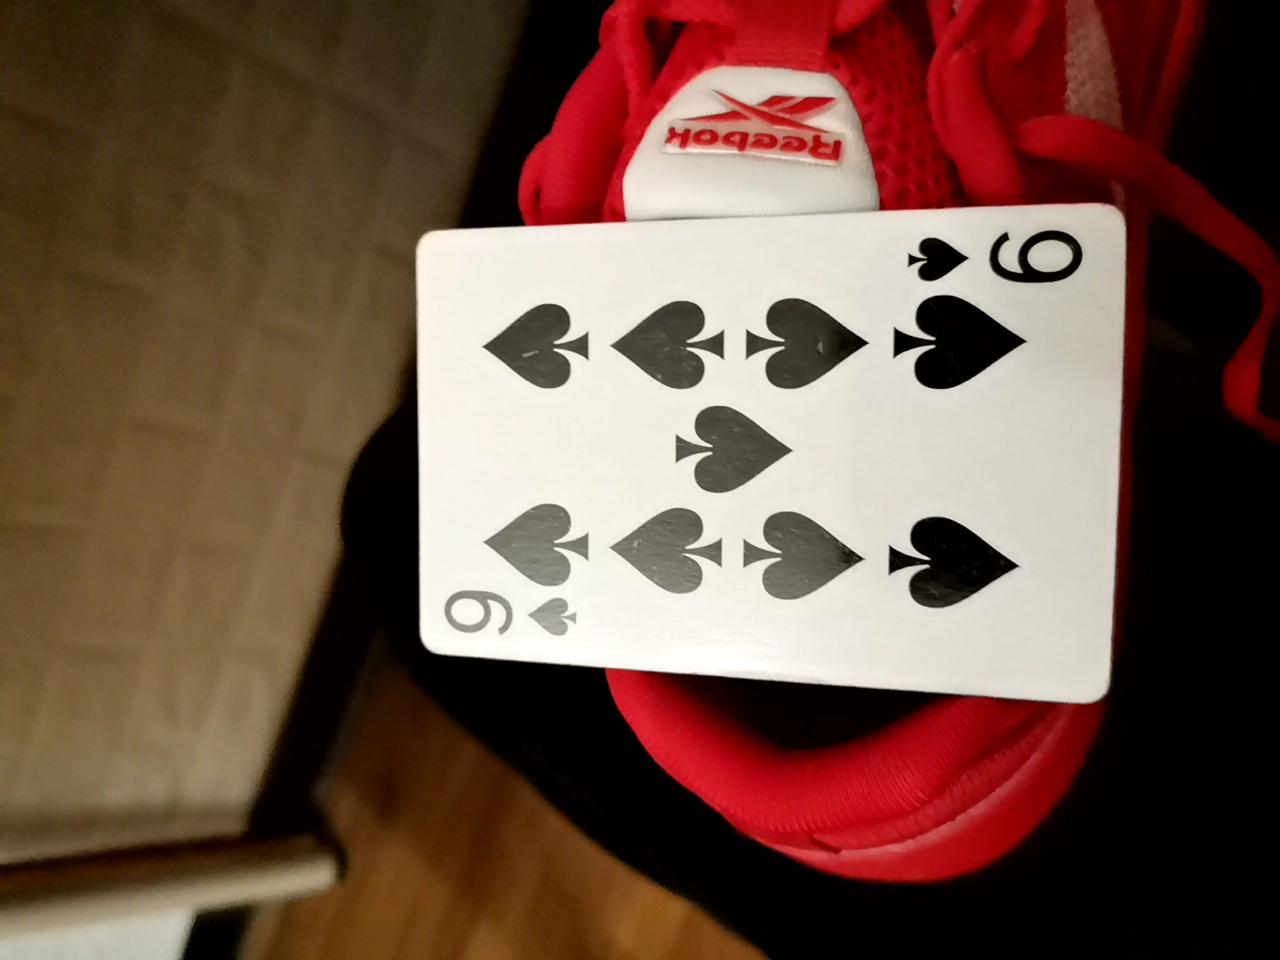ht 9: (384, 188, 1124, 708)
